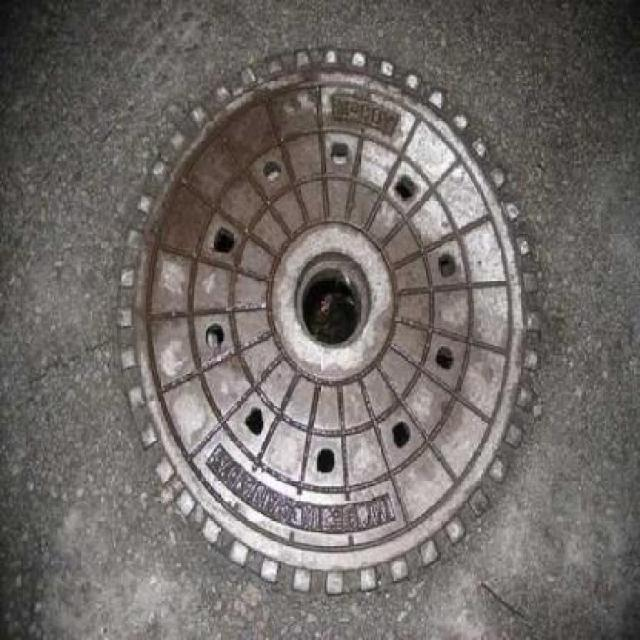Manhole: (102, 36, 556, 604)
